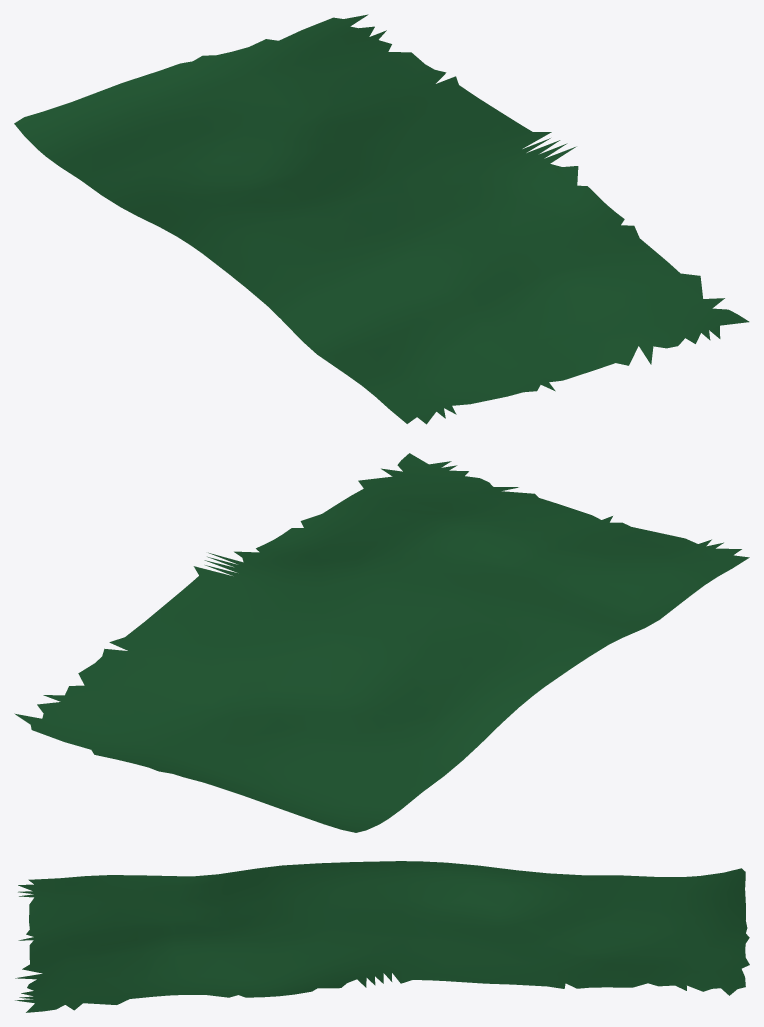
Rendered from payo_land_x4_y0_lod1.glb.
3 views of the same model, one above another, from view 1: azimuth 30°, elevation 25°; view 2: azimuth 150°, elevation 25°; view 3: azimuth 270°, elevation 25° (orthographic). The views are drawn at different scales.
Parts seen in each view (by area): view 1: payo_land_x4_y0; view 2: payo_land_x4_y0; view 3: payo_land_x4_y0.
Part boxes in pixels (x1,y1,x2,y2): payo_land_x4_y0: [14, 14, 749, 424]; payo_land_x4_y0: [14, 453, 749, 832]; payo_land_x4_y0: [15, 861, 749, 1012].
Bounding box in the file's own units: 133 × 20.09 × 262.
